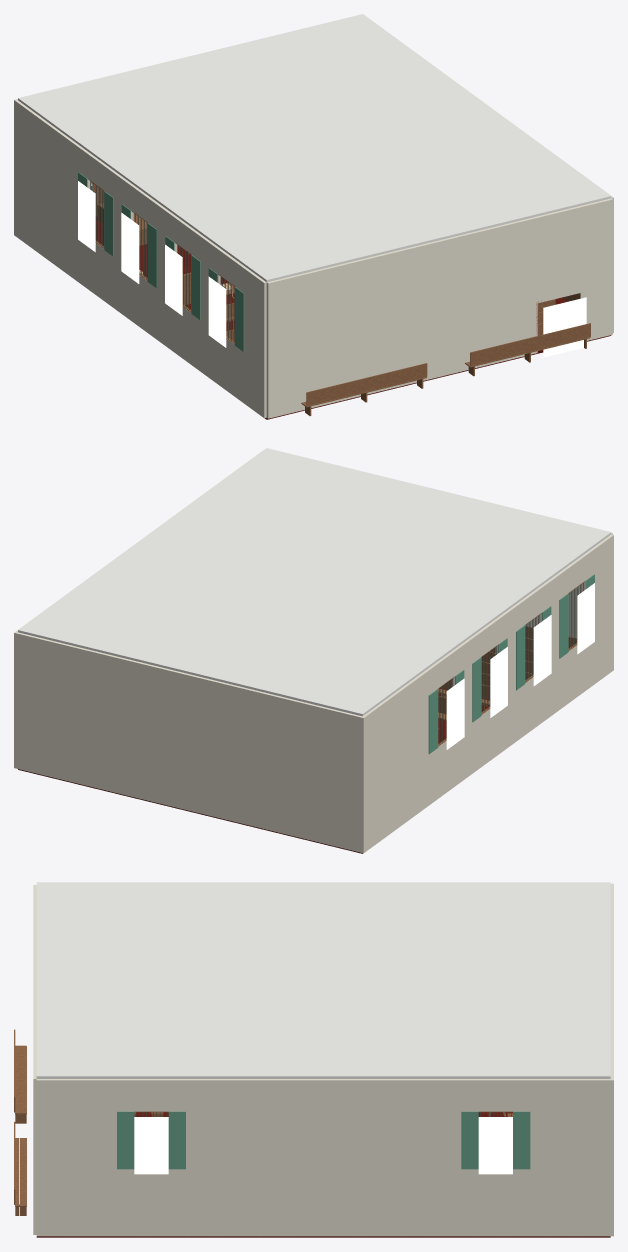
File: room_court.glb
3 renders of one model, top to bottom at view 1: azimuth 30°, elevation 25°; view 2: azimuth 150°, elevation 25°; view 3: azimuth 270°, elevation 25°, orthographic. The views are drawn at different scales.
Parts seen in each view (by area): view 1: Room; view 2: Room; view 3: Room.
Part boxes in pixels (box(x1,y1,x2,y2)): Room: box(14, 14, 613, 419); Room: box(14, 448, 613, 853); Room: box(14, 882, 613, 1237).
Size of the model in its own units: 17.14 by 6.2 by 20.92.
Materials: 41 (6 with a texture image).
